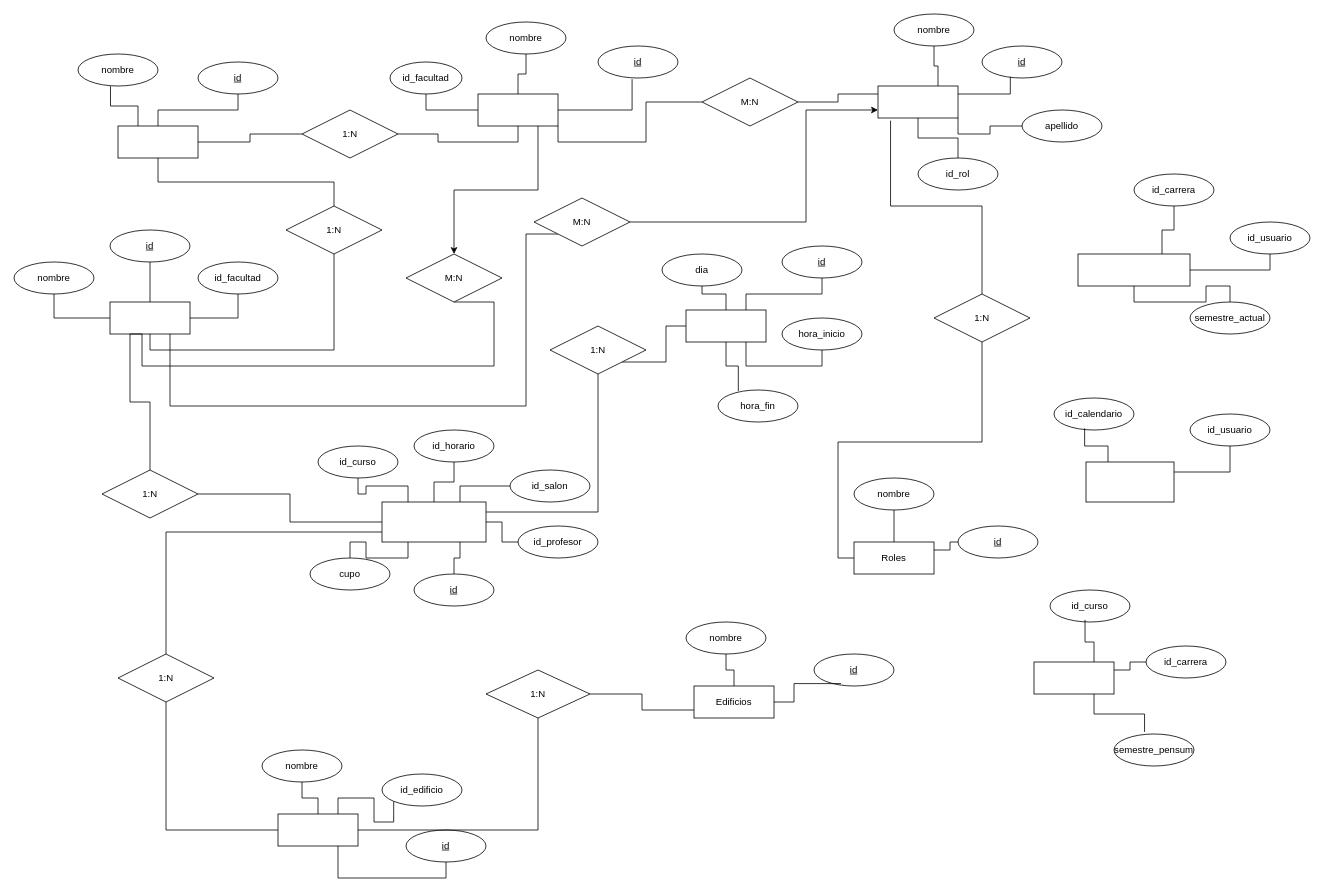
The diagram is 1324 pixels wide and 893 high, and some of its shapes have lost their labels. Each missing label, with the box of its shape:
Calendario_Cursos: (381, 501, 486, 542)
Carreras: (477, 93, 558, 126)
Carreras_Estudiantes: (1077, 253, 1190, 286)
Curso_Carreras: (1033, 661, 1114, 694)
Cursos: (109, 301, 190, 334)
Cursos_Estudiantes: (1085, 461, 1174, 502)
Facultades: (117, 125, 198, 158)
Horarios: (685, 309, 766, 342)
Salones: (277, 813, 358, 846)
Usuarios: (877, 85, 958, 118)
